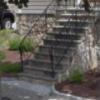stairs: (15, 2, 100, 86)
